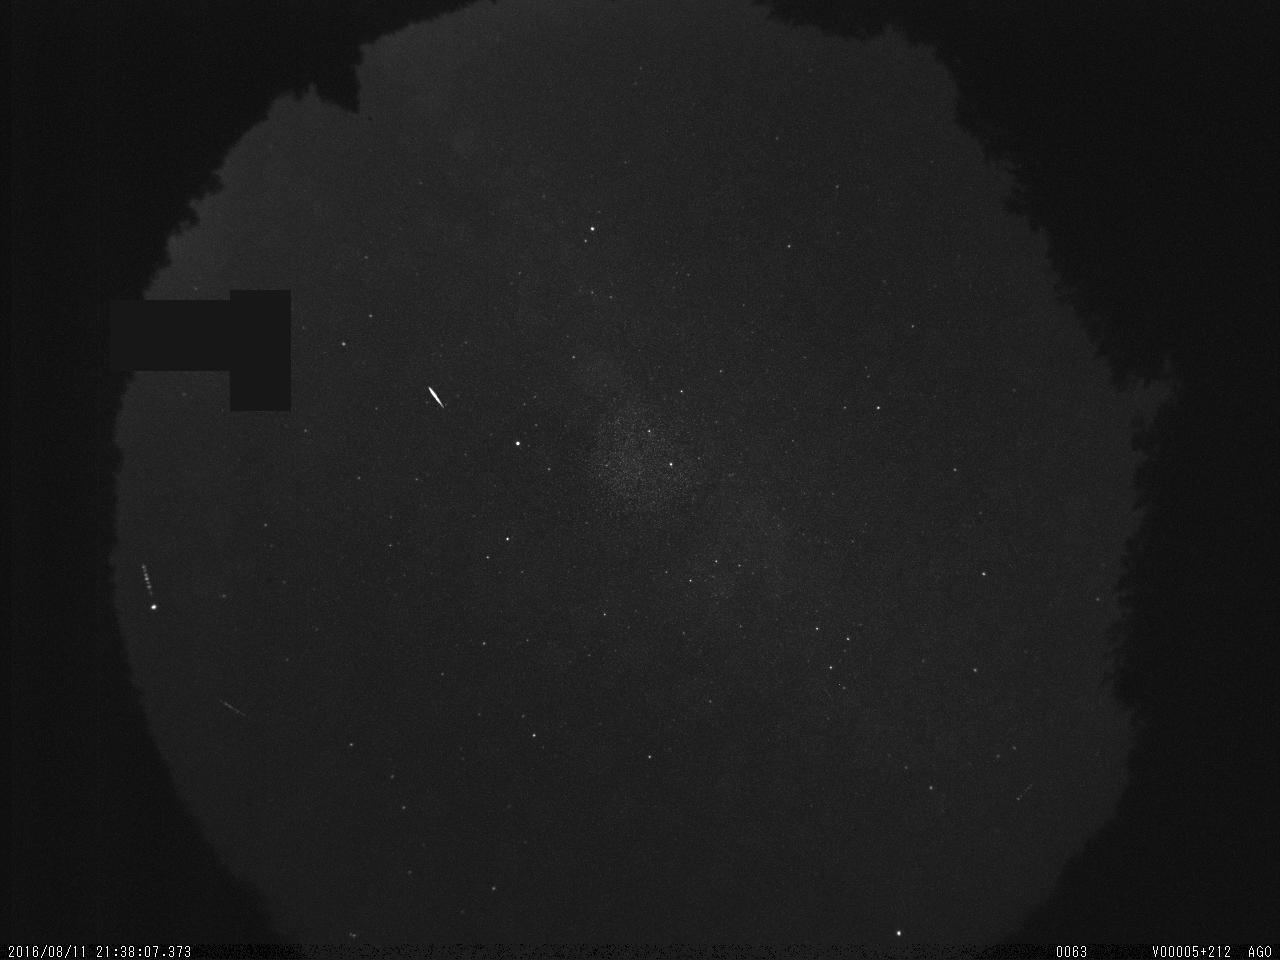meteor: (207, 687, 253, 726), (419, 381, 456, 414)
